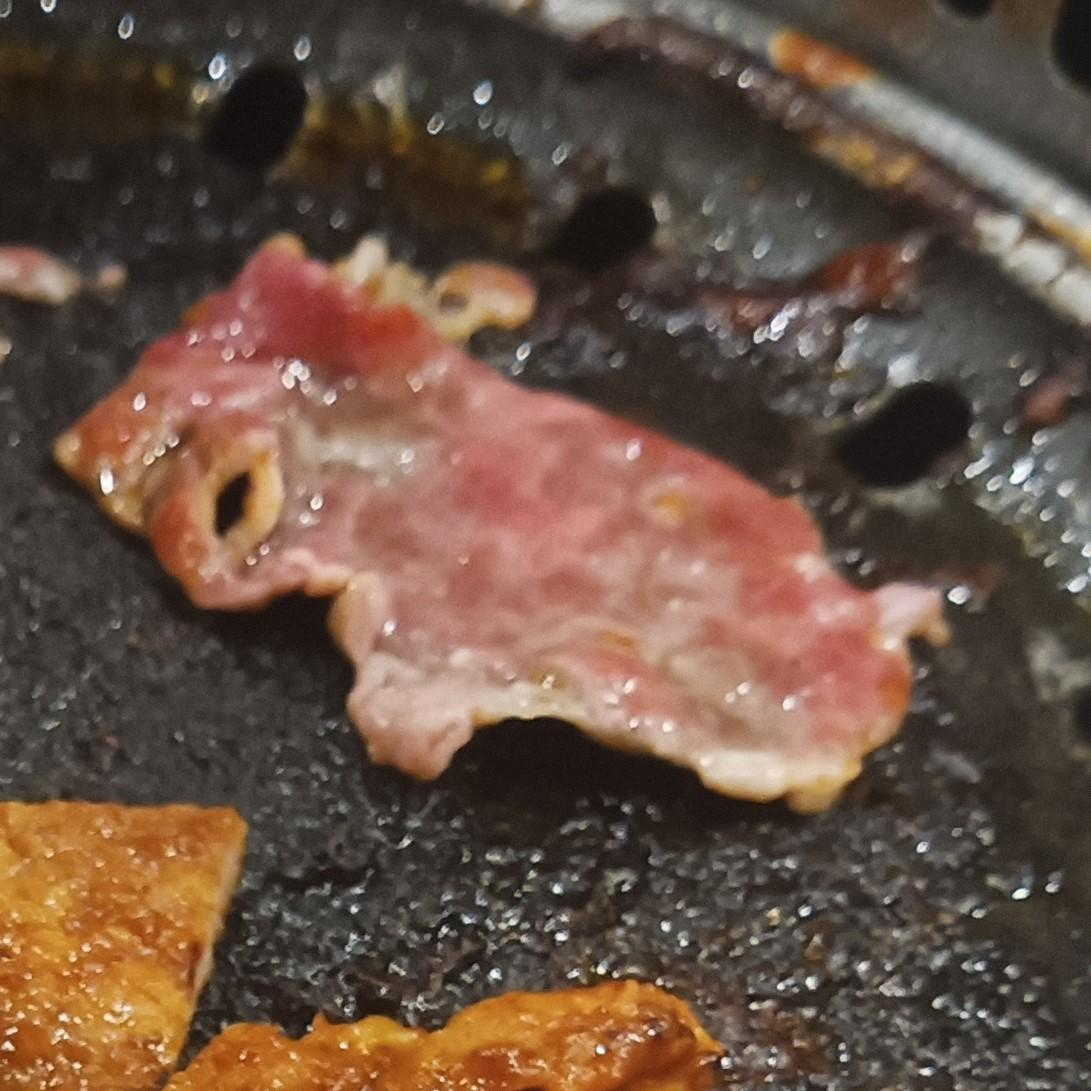Undercooked: (54, 237, 947, 811)
Well-Cooked: (0, 801, 246, 1090), (166, 980, 727, 1090)
